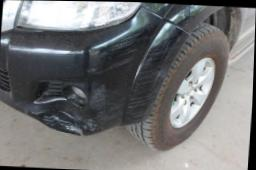Bumper: (9, 6, 189, 139)
